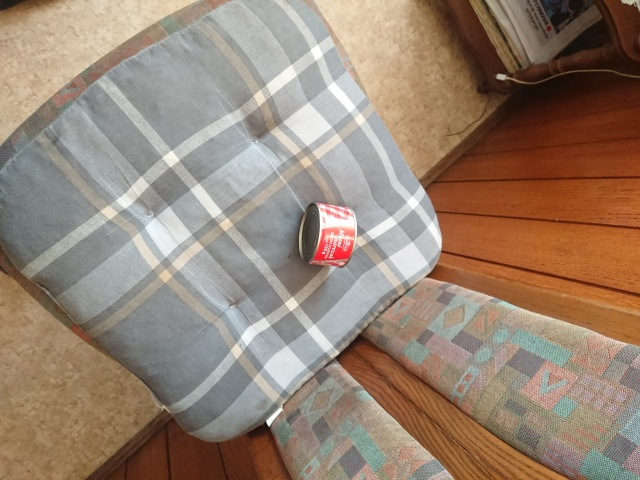Podravka Luncheon Meat 150g: (296, 201, 359, 271)
